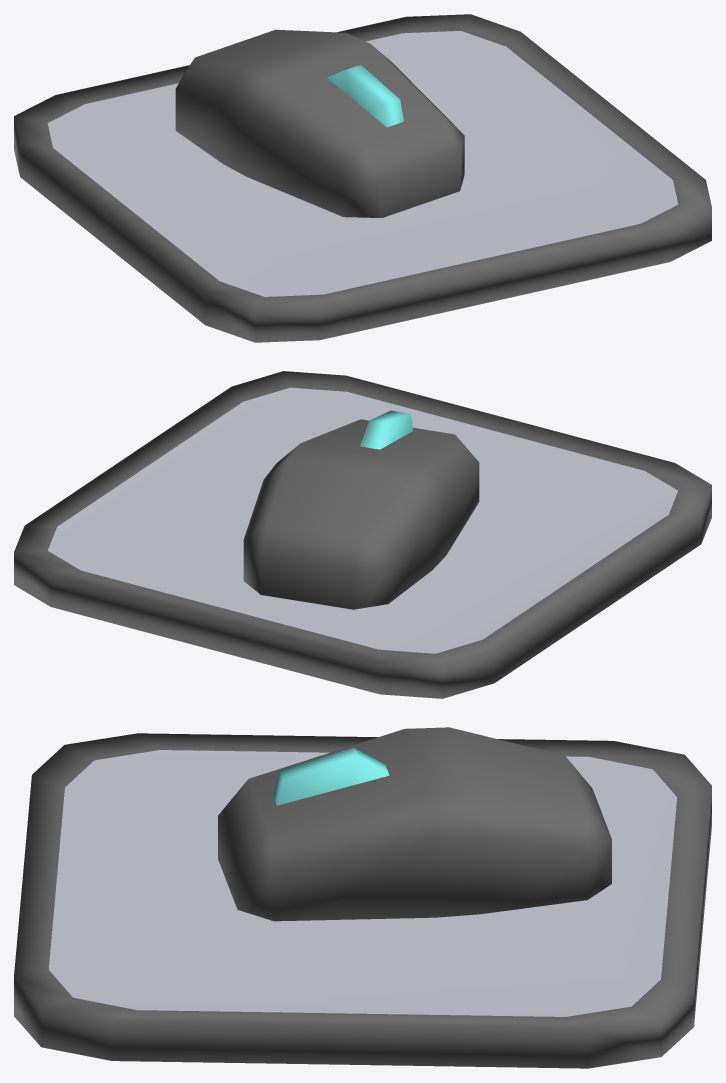
Rendered from mouse_01.glb.
3 views of the same model, one above another, from view 1: azimuth 30°, elevation 25°; view 2: azimuth 150°, elevation 25°; view 3: azimuth 270°, elevation 25° (orthographic). The views are drawn at different scales.
Parts seen in each view (by area): view 1: mesh_mouse_01; view 2: mesh_mouse_01; view 3: mesh_mouse_01.
Part boxes in pixels (bbox=[...]): mesh_mouse_01: bbox=[14, 14, 711, 342]; mesh_mouse_01: bbox=[14, 371, 711, 698]; mesh_mouse_01: bbox=[14, 727, 711, 1068].
Bounding box in the file's own units: 0.4204 × 0.1063 × 0.4204.
